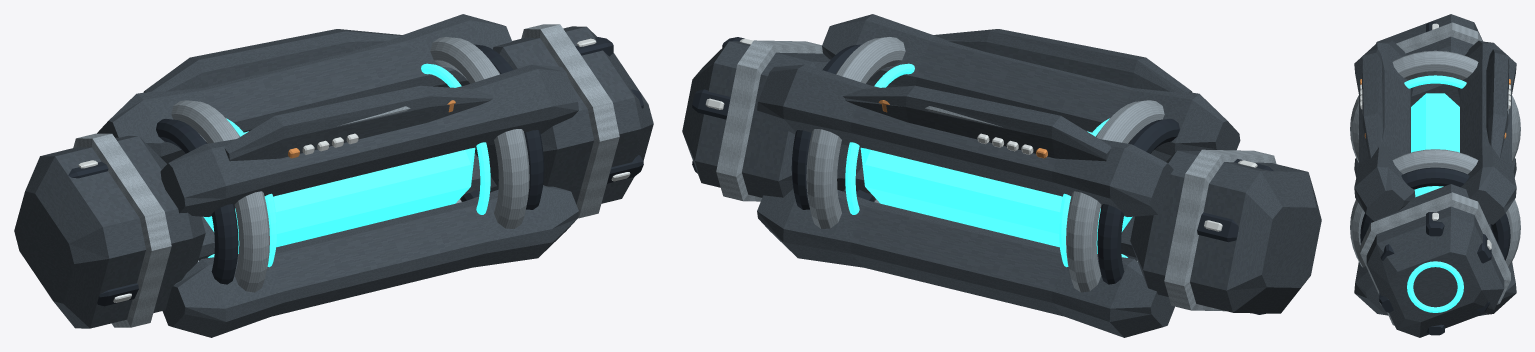
The model's file is aether-s9-photonic.gltf.
The picture shows the model from 3 angles, left to right: view 1: azimuth 30°, elevation 25°; view 2: azimuth 150°, elevation 25°; view 3: azimuth 270°, elevation 25°; orthographic projection. The views are drawn at different scales.
Visible parts, largest first — view 1: Basalt ceramic, Satin alloy, Photon crystal, Recessed graphite, Pale edge enamel; view 2: Basalt ceramic, Satin alloy, Photon crystal, Recessed graphite, Pale edge enamel; view 3: Basalt ceramic, Satin alloy, Photon crystal, Recessed graphite, Pale edge enamel.
Boxes of the visible parts, box(x1,y1,x2,y2) form: Basalt ceramic: box(14, 14, 653, 337); Satin alloy: box(73, 24, 619, 327); Photon crystal: box(203, 63, 490, 267); Recessed graphite: box(68, 37, 643, 306); Pale edge enamel: box(78, 38, 630, 302); Basalt ceramic: box(682, 14, 1321, 337); Satin alloy: box(716, 37, 1276, 311); Photon crystal: box(845, 63, 1132, 267); Recessed graphite: box(692, 37, 1273, 314); Pale edge enamel: box(705, 38, 1257, 231); Basalt ceramic: box(1354, 14, 1516, 337); Satin alloy: box(1350, 22, 1520, 325); Photon crystal: box(1404, 75, 1466, 312); Recessed graphite: box(1360, 21, 1510, 335); Pale edge enamel: box(1360, 23, 1510, 303).
Bounding box in the file's own units: 2.78 × 0.9691 × 0.91.
7 materials, 2 textured.
